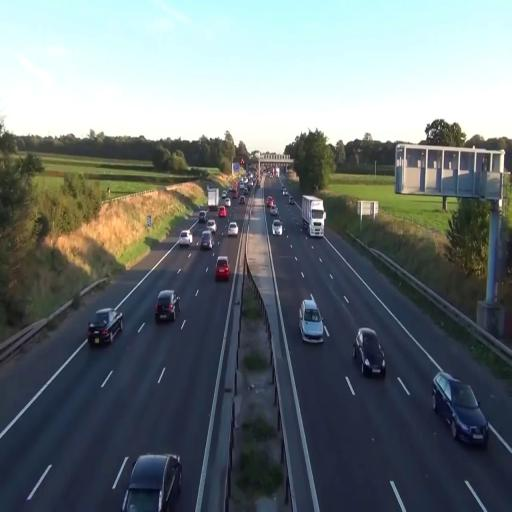vehicle: (432, 370, 489, 448), (122, 453, 182, 512), (353, 326, 386, 376), (87, 306, 123, 348), (299, 296, 325, 342), (301, 194, 326, 238), (302, 195, 325, 237), (154, 290, 180, 324), (215, 256, 230, 283), (200, 229, 214, 251), (178, 230, 192, 246), (228, 221, 240, 237), (272, 221, 283, 236)
